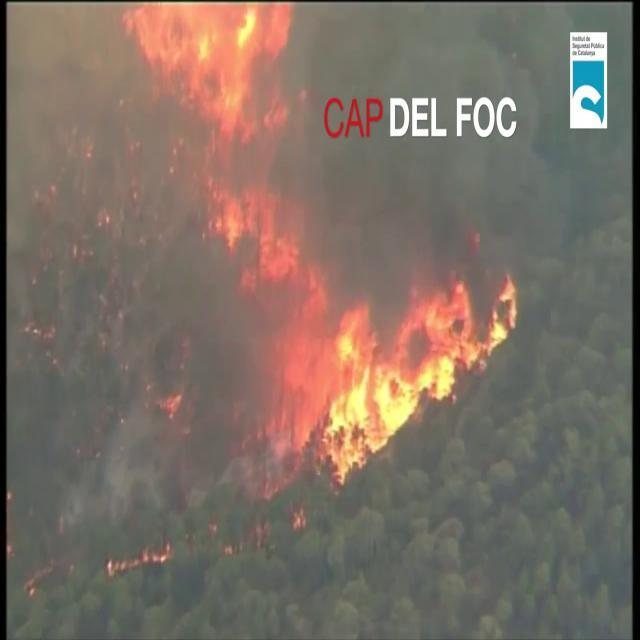Fire: (296, 272, 516, 476), (213, 146, 332, 346), (120, 4, 292, 116)
Smoke: (6, 2, 314, 553), (279, 2, 575, 330)
